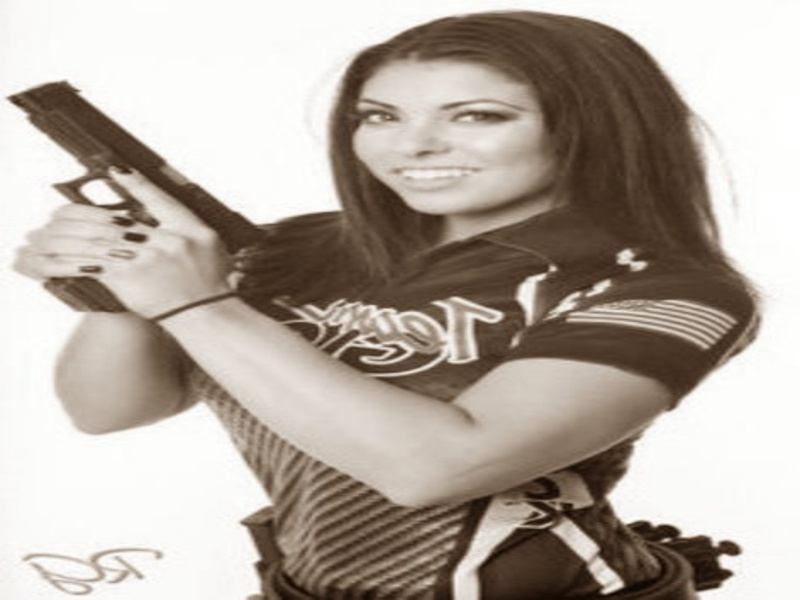wine: (607, 13, 799, 568), (148, 41, 254, 570), (3, 5, 121, 414), (500, 106, 589, 423), (231, 98, 306, 459), (113, 281, 184, 354)
